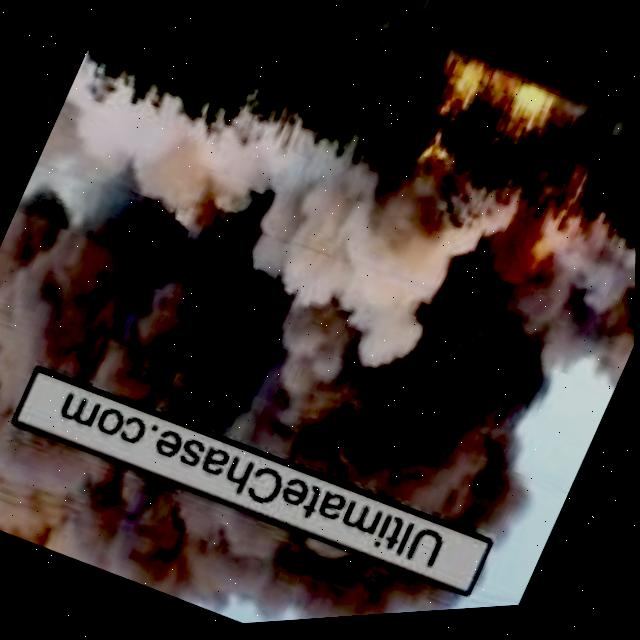Fire: (408, 50, 561, 209), (501, 195, 586, 316)
Smoke: (0, 31, 639, 587), (0, 365, 468, 640)
